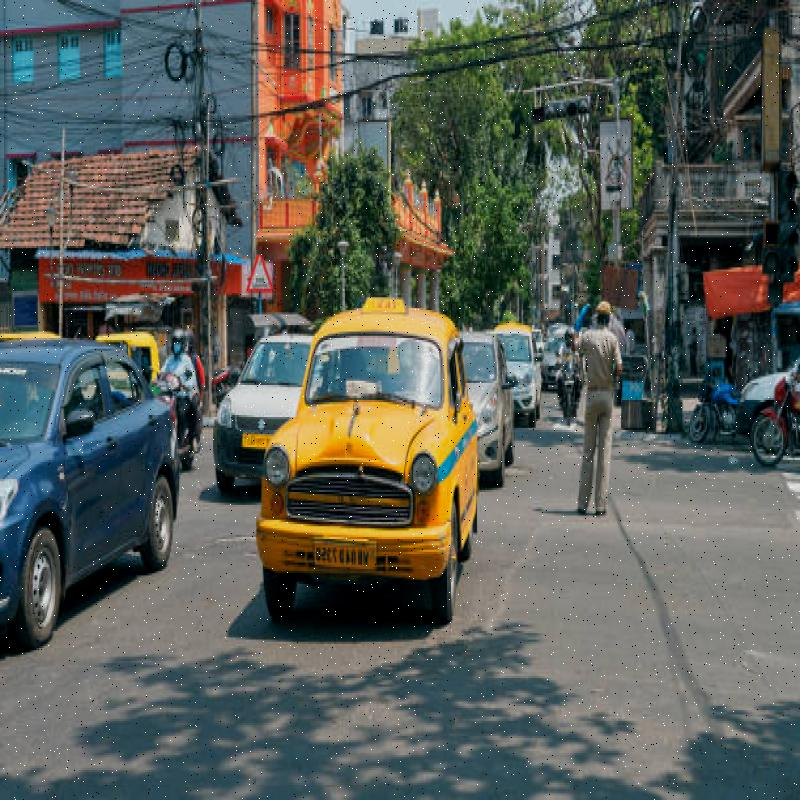car: (252, 310, 490, 638), (0, 366, 203, 659), (216, 318, 320, 502), (455, 332, 515, 486), (508, 333, 540, 427)
